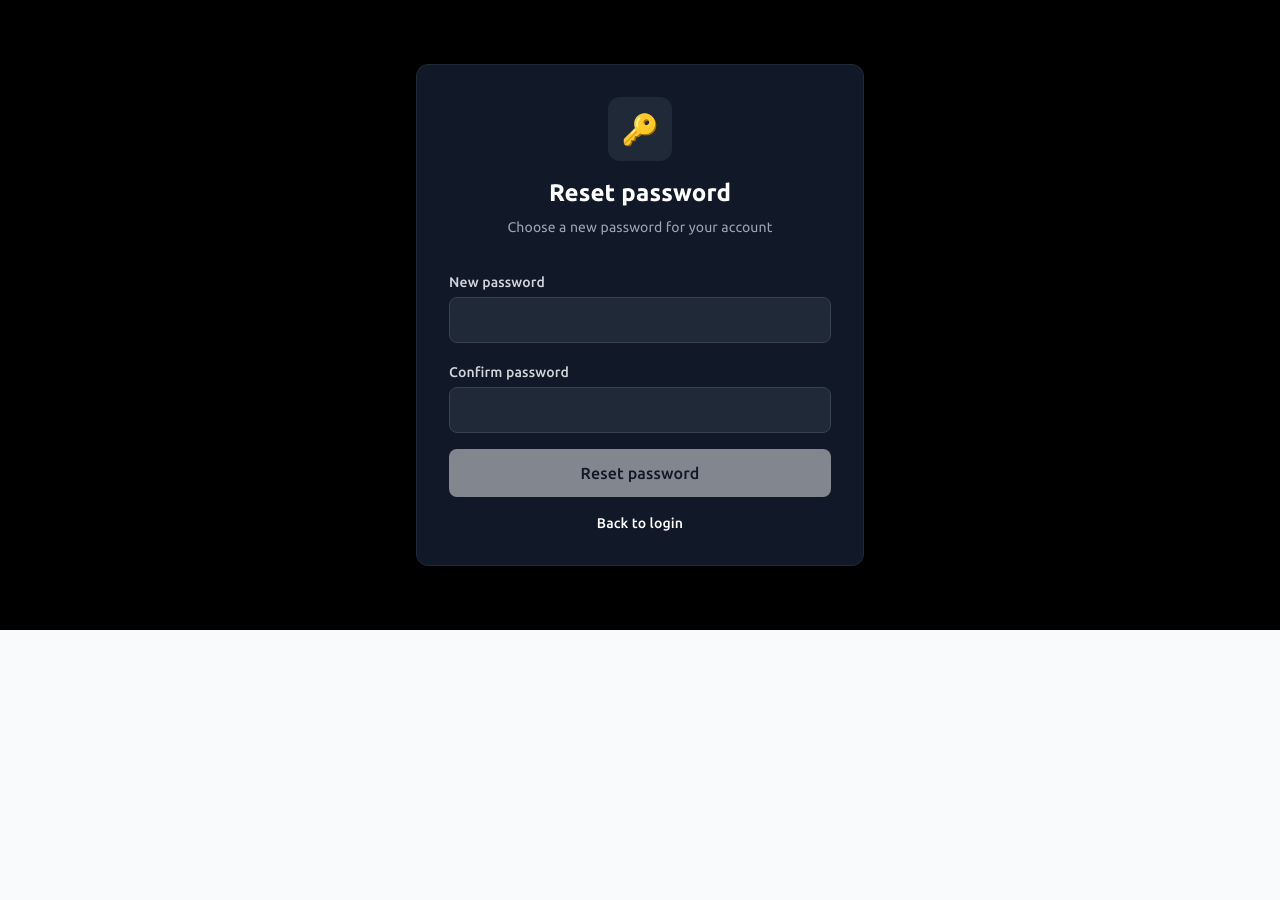
Test: ResetPasswordPage › submits and shows success then redirects
This screenshot has width=1280, height=900.
Type "NewPassword123!" into the password field labelled "New password" at (640, 320), box [449,297,831,343]
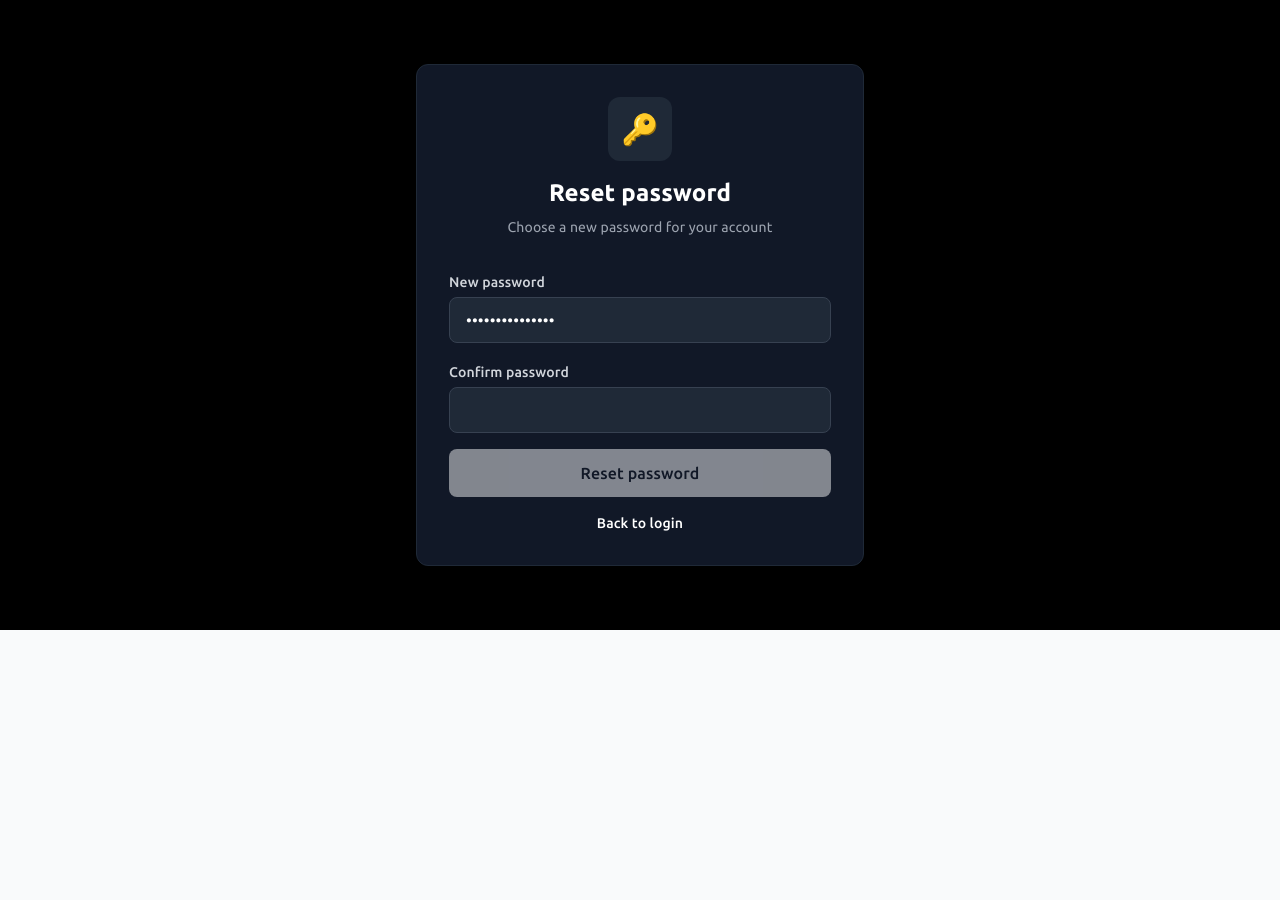
Type "NewPassword123!" into the password field labelled "Confirm password" at (640, 410), box [449,387,831,433]
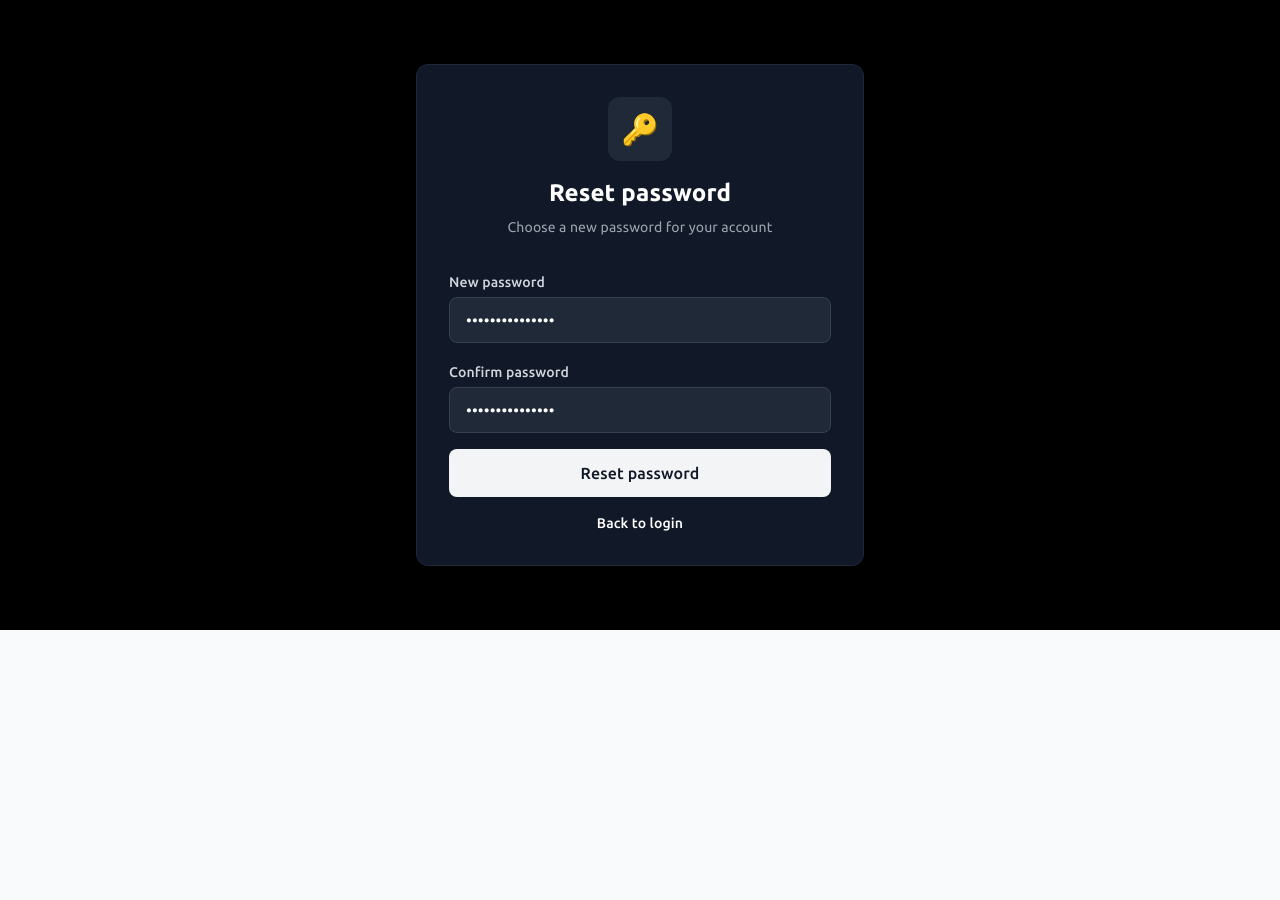
Click the button "Reset password" at (640, 473), box [449,449,831,497]
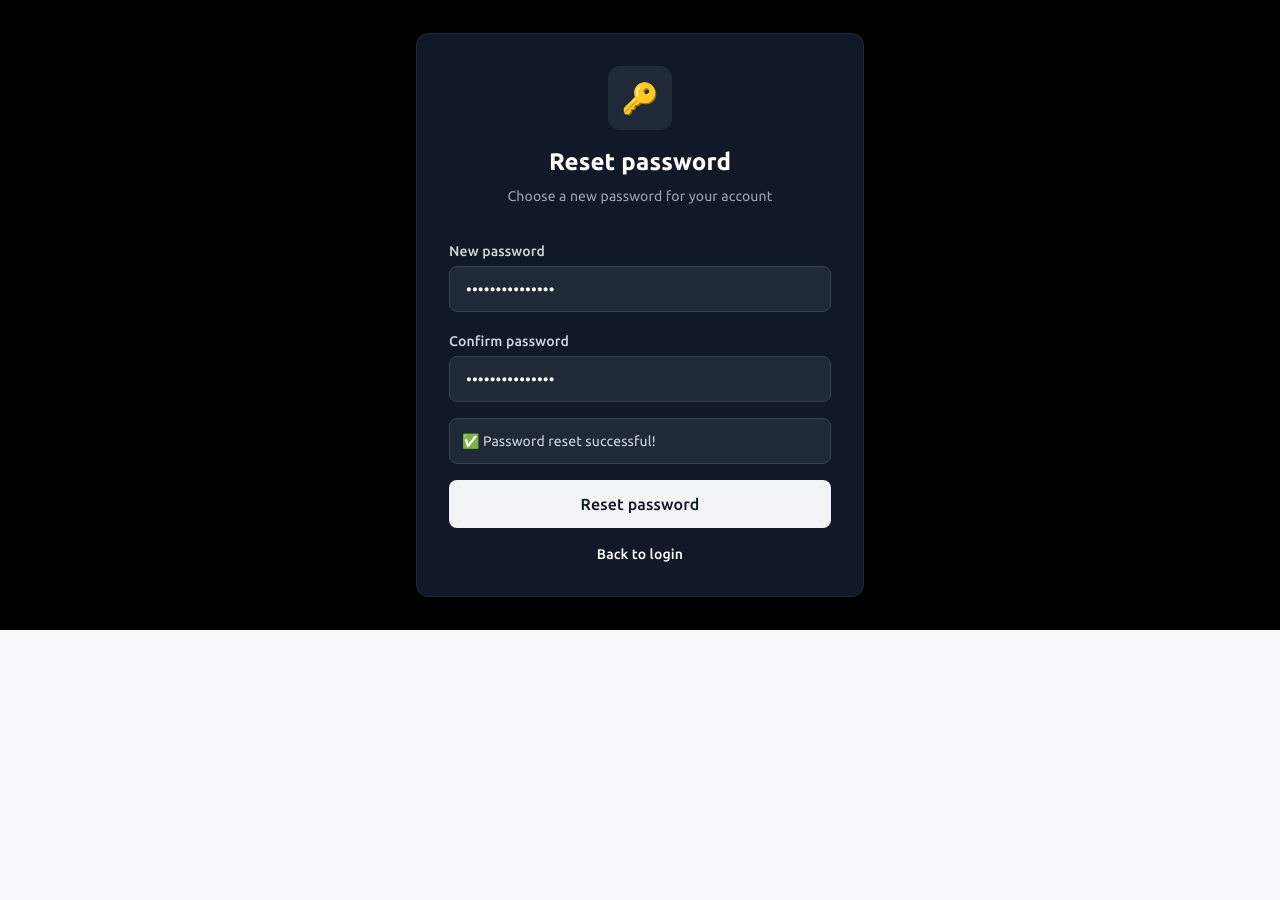
Now the text "✅ Password reset successful!" is shown, box [449,418,831,464]
